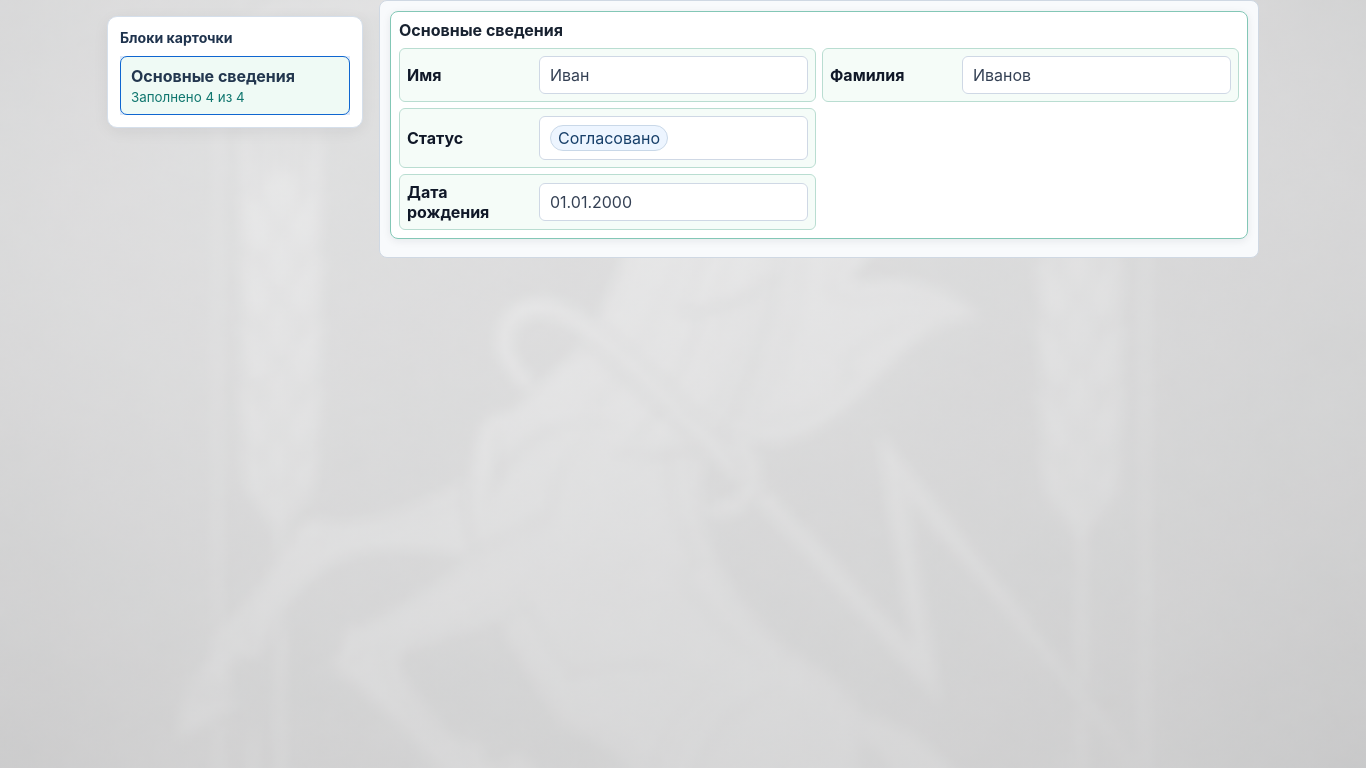
Test: FilledCardLayout › renders editable fields as inline controls
Expected: the element with class "card-layout-inline-field" showing "Имя Иван" is shown, [407,56,808,94]
Expected: the text with class "card-inline-field-read-value" reads "Иван", [550,65,590,85]
Click the element with test id "filled-field-layout-first-name": (608, 75) [399,48,816,102]
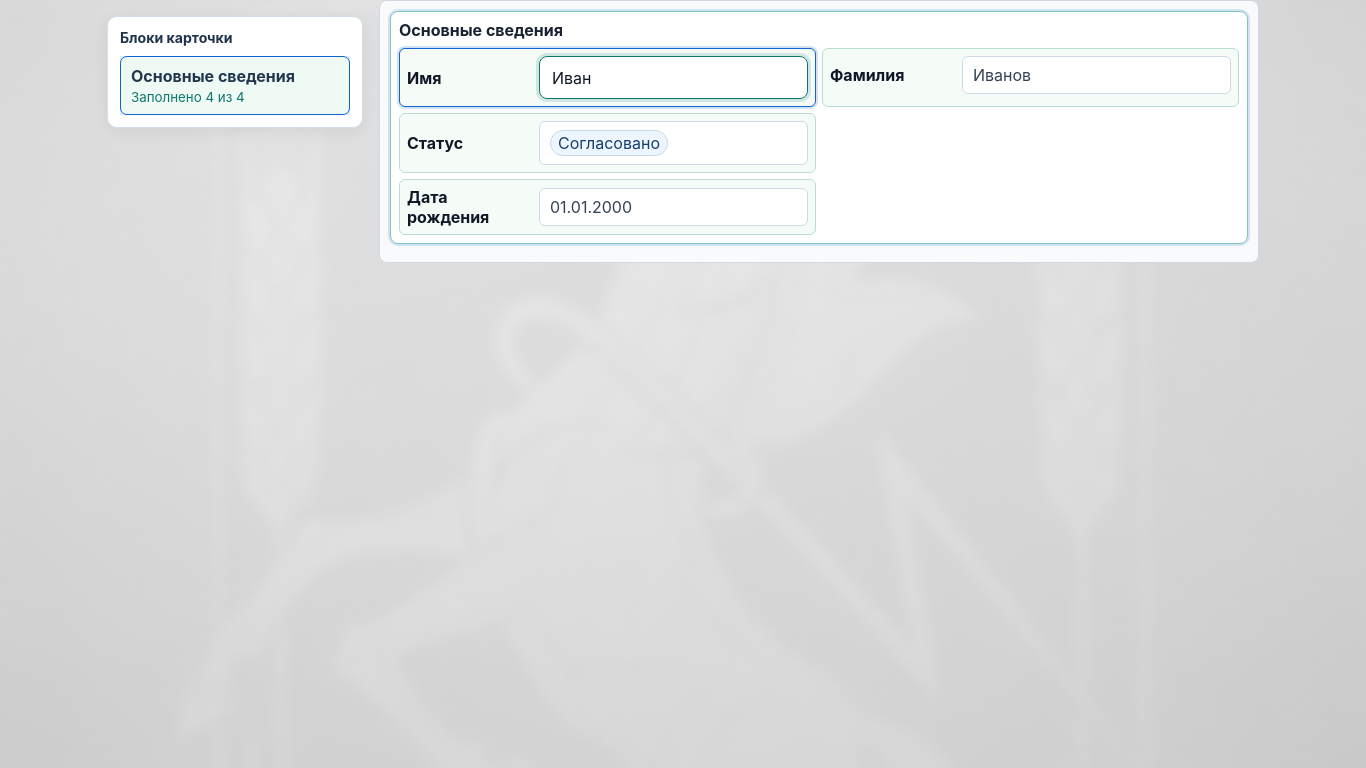
Now the text box named "Имя" holds "Иван", box [539,56,808,99]
